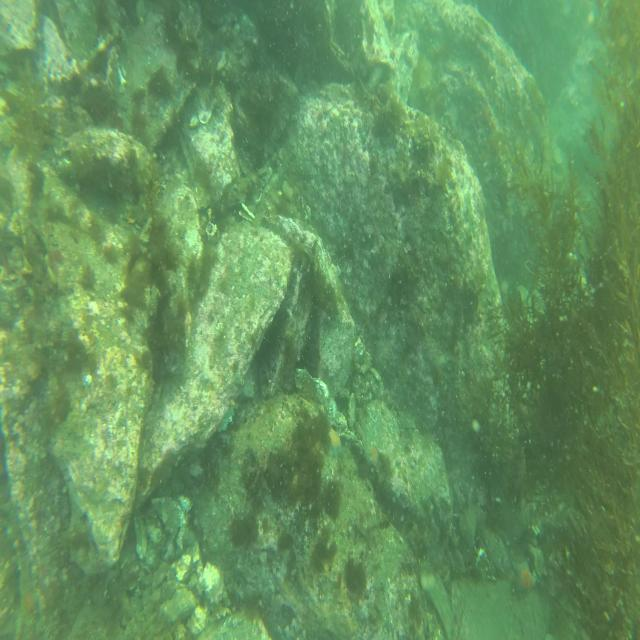starfish: (507, 556, 533, 602), (324, 422, 343, 461), (361, 438, 380, 471)
